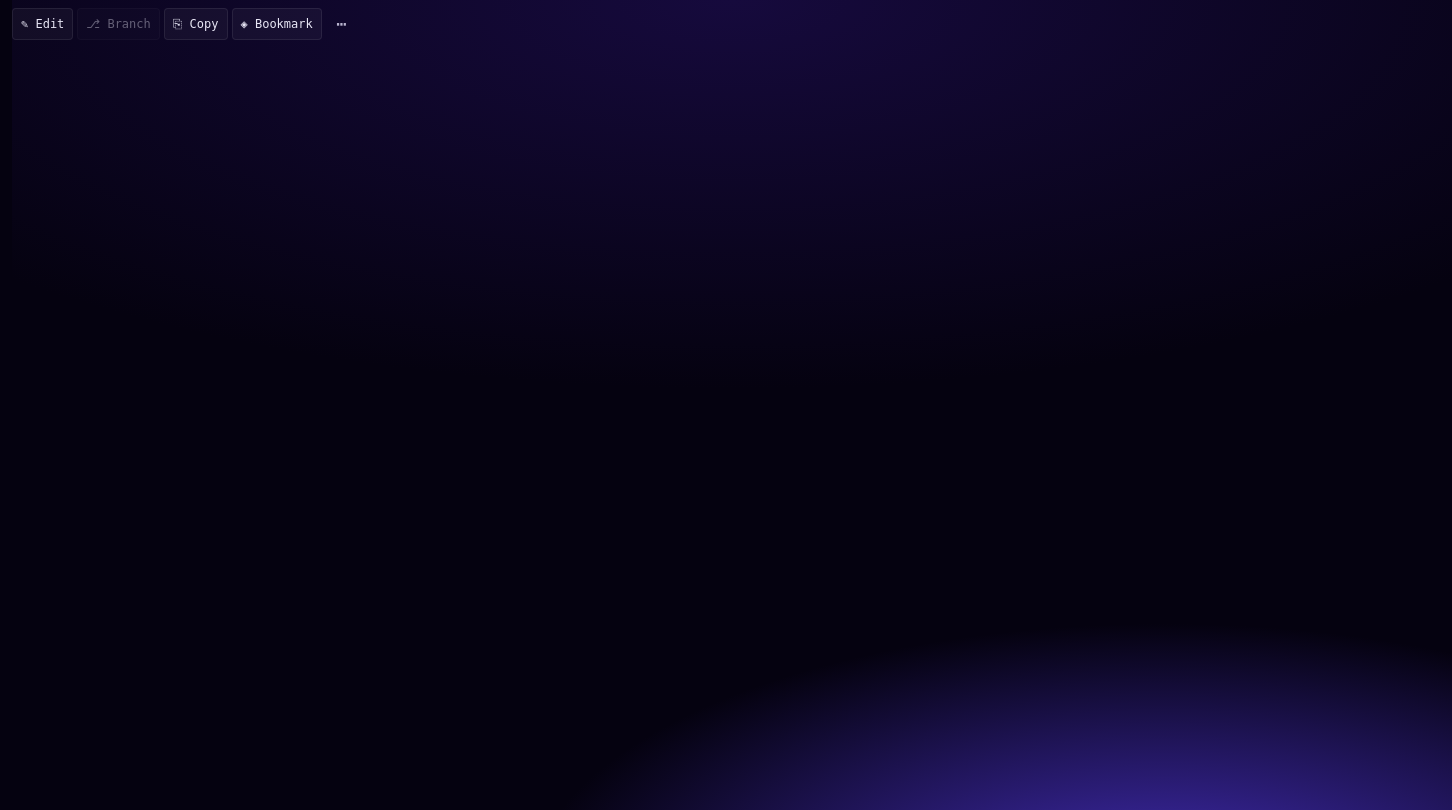
Test: MessageControls — edit affordance (user messages) › moves Save into the overflow on a user message (not on the flat row)
Note: It lives behind the ⋯ trigger.
Step 1. Click the button named "more actions" → (342, 24), box [326,8,358,40]
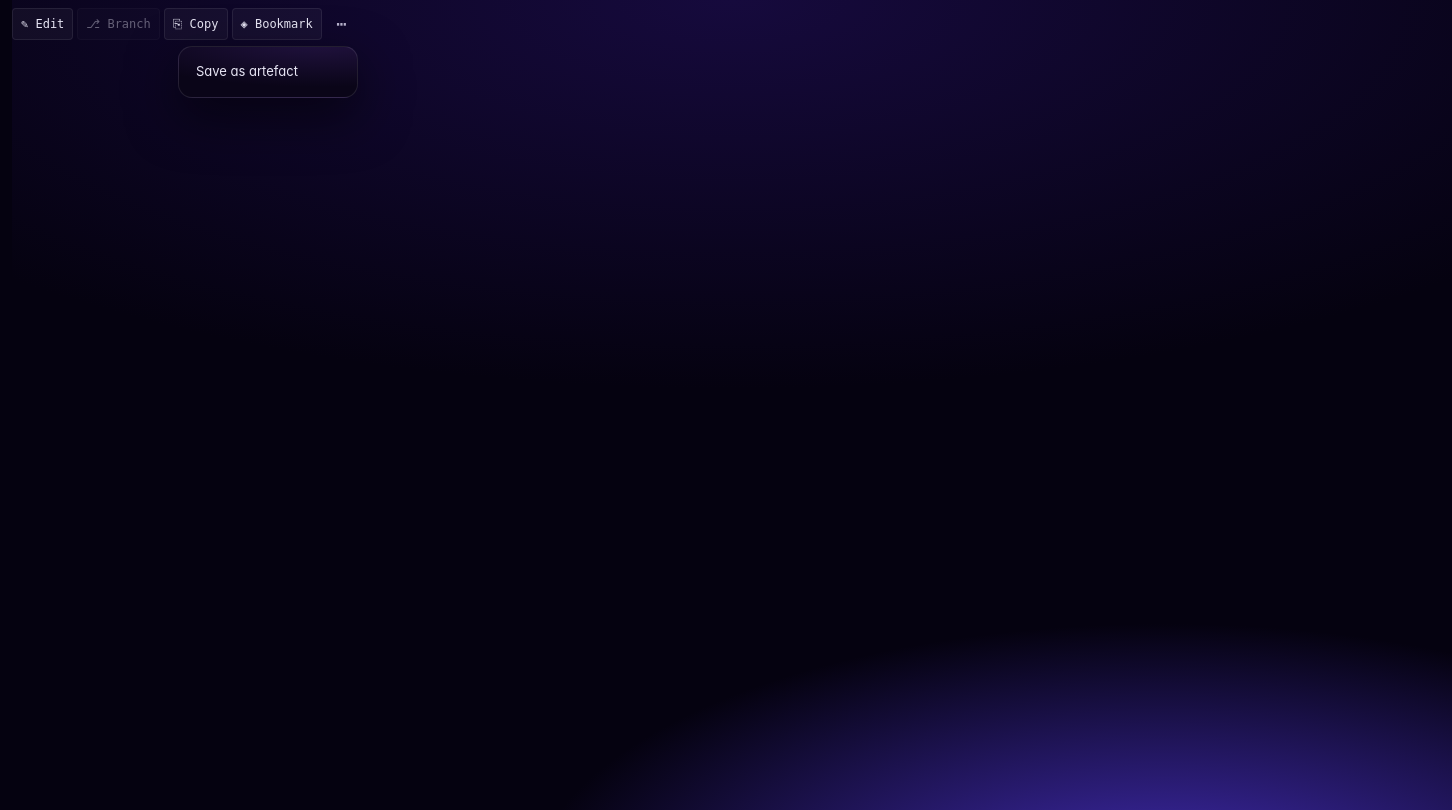
Expected: the text "Save as artefact" is shown, [196,63,298,79]
